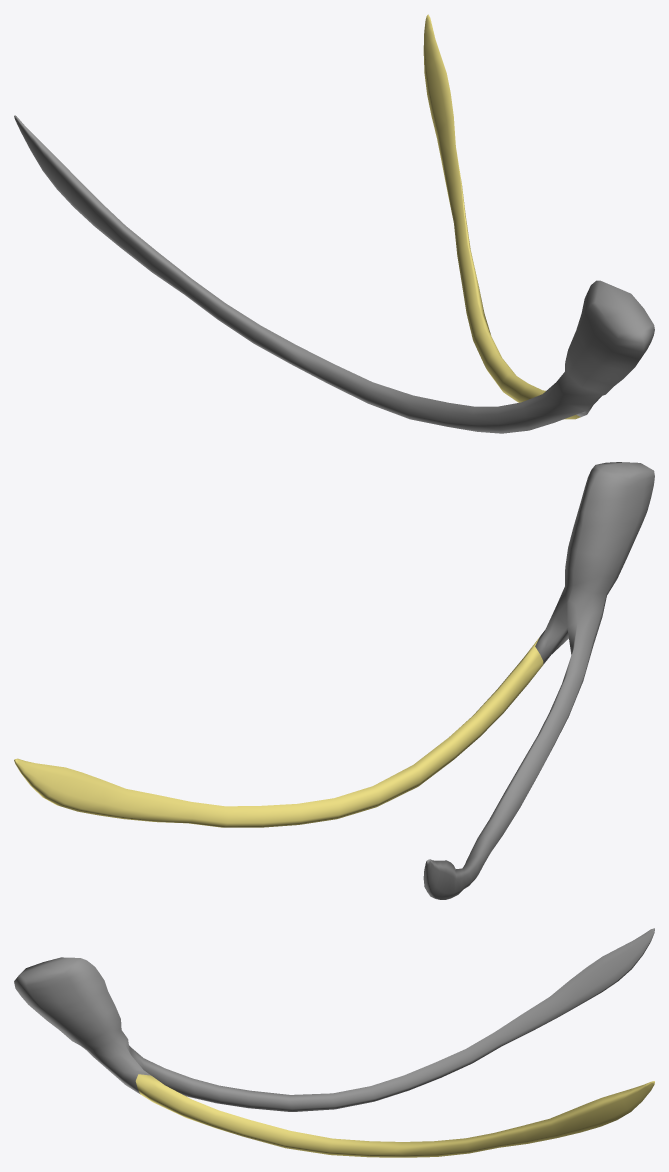
File: WishboneRiggedNONTEXTURE.fbx
3 renders of one model, top to bottom at view 1: azimuth 30°, elevation 25°; view 2: azimuth 150°, elevation 25°; view 3: azimuth 270°, elevation 25°, orthographic. The views are drawn at different scales.
Visible parts, largest first — view 1: Wishbone, Snapped; view 2: Wishbone, Snapped; view 3: Wishbone, Snapped.
Boxes of the visible parts, left/top/right/bottom form: Wishbone: left=14, top=115, right=654, bottom=433; Snapped: left=423, top=14, right=580, bottom=419; Wishbone: left=423, top=462, right=654, bottom=899; Snapped: left=14, top=637, right=543, bottom=827; Wishbone: left=14, top=928, right=654, bottom=1111; Snapped: left=135, top=1074, right=654, bottom=1157.
Size of the model in its own units: 146 by 77.27 by 258.
